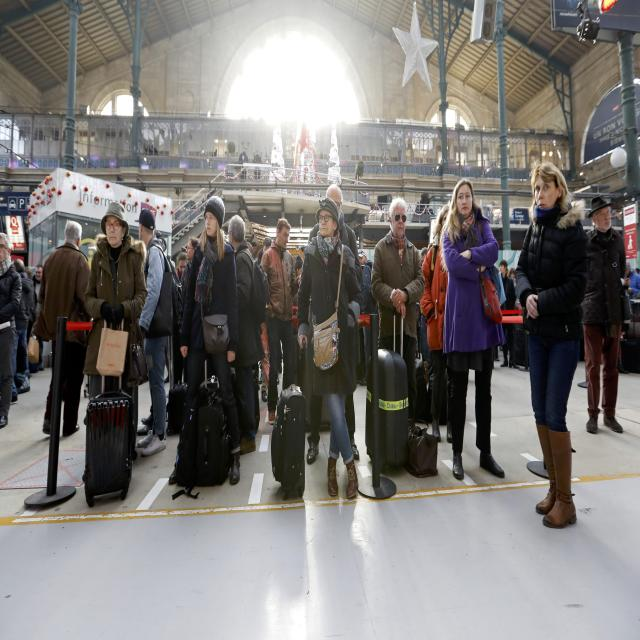body: (0, 131, 638, 176), (514, 158, 590, 531), (166, 194, 243, 488), (437, 176, 508, 481), (296, 194, 364, 500), (306, 183, 363, 464), (369, 195, 426, 450), (83, 202, 149, 401), (36, 217, 93, 439), (224, 213, 272, 457), (580, 192, 628, 435), (138, 227, 184, 437), (259, 217, 301, 425), (136, 208, 170, 457), (419, 205, 454, 444), (0, 231, 22, 428), (257, 237, 280, 385), (11, 258, 34, 398), (358, 249, 376, 386), (619, 258, 639, 373), (498, 260, 518, 370), (256, 259, 270, 403), (176, 249, 190, 390), (416, 241, 430, 379), (180, 235, 201, 312), (31, 264, 45, 371), (512, 266, 526, 368), (22, 266, 38, 346), (292, 252, 304, 331), (275, 335, 287, 390), (252, 148, 263, 192), (164, 337, 172, 383), (238, 146, 248, 182), (10, 380, 21, 404), (247, 235, 256, 259), (496, 264, 510, 276)
